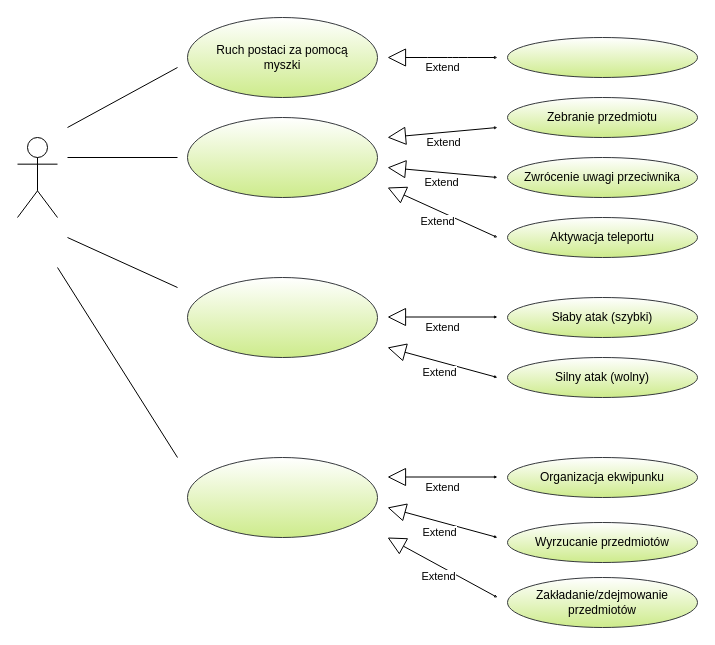
Some shapes in this 715 by 645 pixel diagram are drawn without their labels. Each missing label, with the box of its shape:
Ekwipunek: (186, 456, 378, 538)
Gracz: (16, 136, 58, 218)
Gracz w zasięgu interakcji z obiektem: (186, 116, 378, 198)
Obrót kamery: (506, 36, 698, 78)
Walka: (186, 276, 378, 358)
